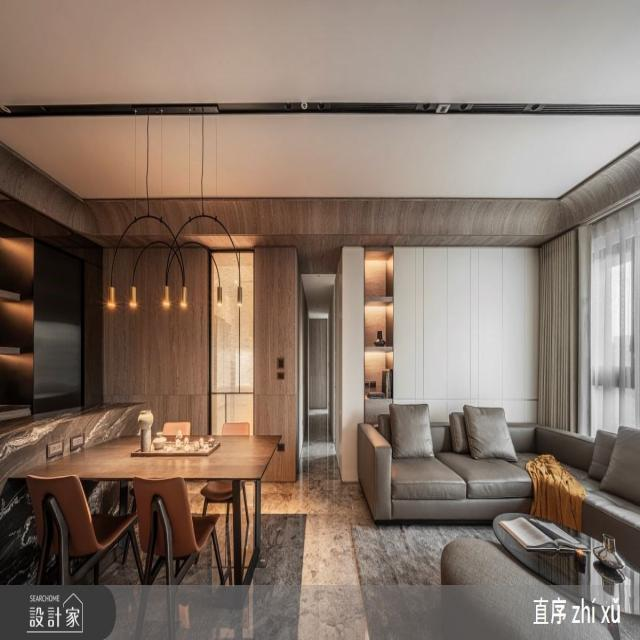table: (18, 410, 280, 596)
